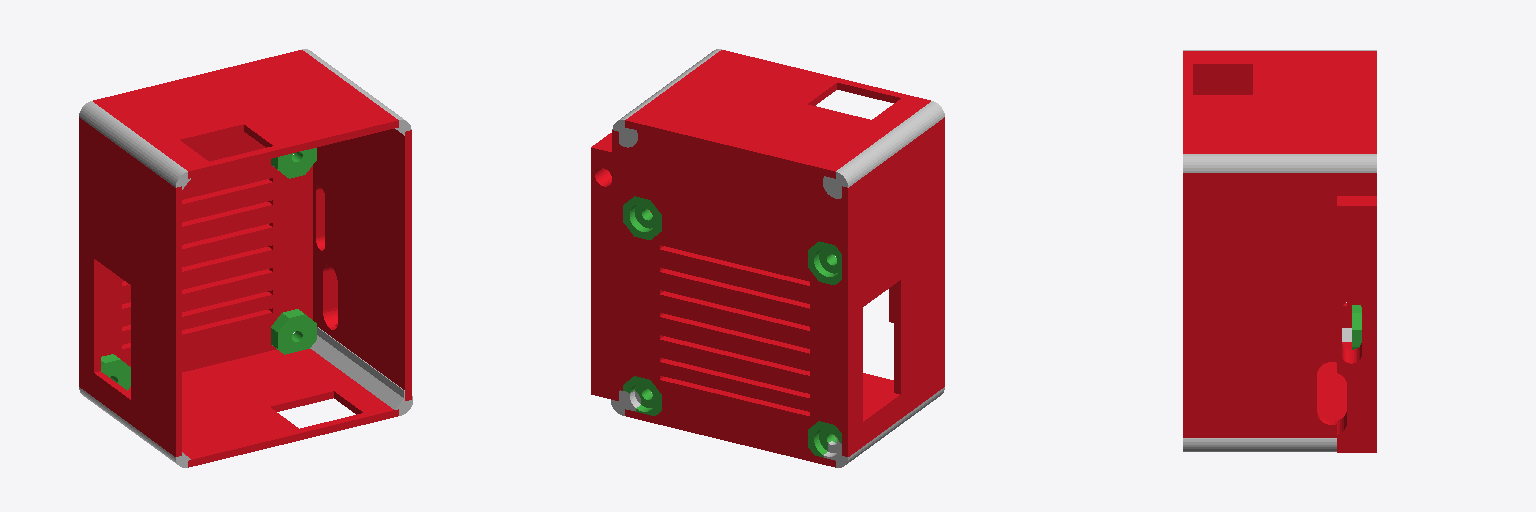
Rendered from hermes-mark6.obj.
3 views of the same model, side by side, from view 1: azimuth 30°, elevation 25°; view 2: azimuth 150°, elevation 25°; view 3: azimuth 270°, elevation 25° (orthographic).
Visible parts, largest first — view 1: obj_0; view 2: obj_0; view 3: obj_0.
Part boxes in pixels (bbox=[...]): obj_0: bbox=[79, 49, 412, 467]; obj_0: bbox=[591, 49, 944, 467]; obj_0: bbox=[1183, 50, 1376, 452].
Size of the model in its own units: 60 by 65.9 by 39.